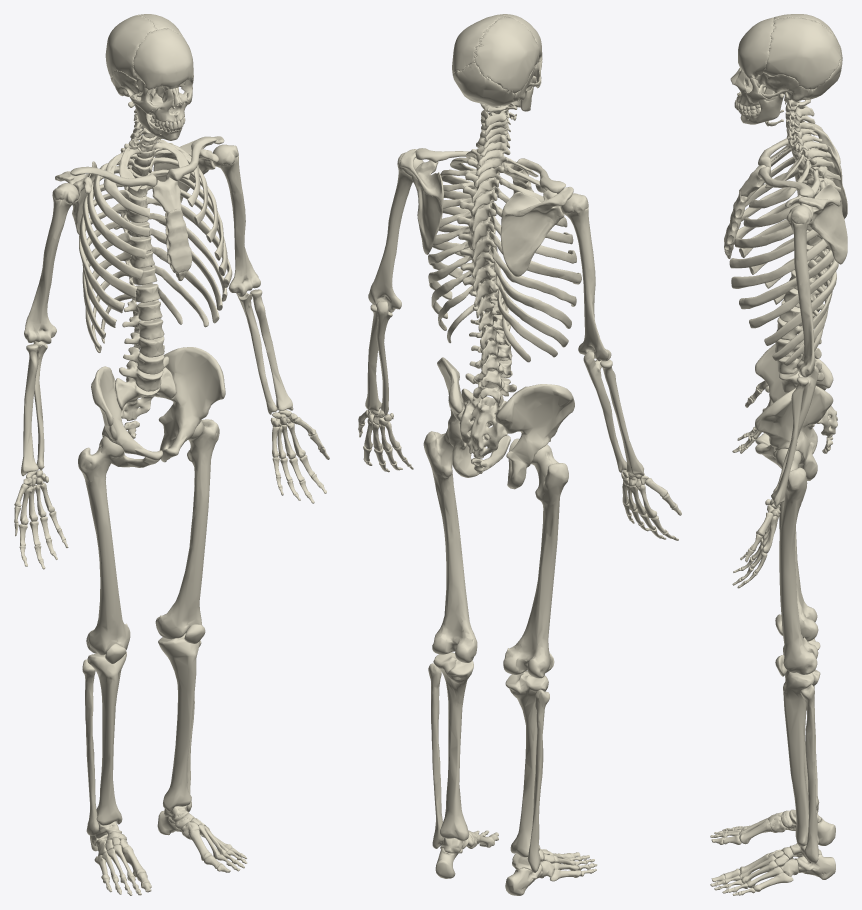
Rendered from skeleton.glb.
3 views of the same model, side by side, from view 1: azimuth 30°, elevation 25°; view 2: azimuth 150°, elevation 25°; view 3: azimuth 270°, elevation 25° (orthographic). The views are drawn at different scales.
Visible parts, largest first — view 1: femur-r, femur-l, hip-l, tibia-l, frontal, tibia-r, humerus-r, humerus-l, hip-r, sternum, parietal-r, sacrum (+18 smaller); view 2: femur-r, femur-l, hip-r, scapula-r, parietal-r, tibia-l, tibia-r, humerus-r, humerus-l, hip-l, scapula-l, sacrum (+15 smaller); view 3: femur-l, parietal-l, tibia-l, hip-l, humerus-l, scapula-l, fibula-l, hip-r, frontal, radius-l, sternum, femur-r (+26 smaller).
Boxes of the visible parts, left/top/right/bottom form: femur-r: left=78, top=436, right=130, bottom=655; femur-l: left=155, top=419, right=219, bottom=639; hip-l: left=158, top=347, right=225, bottom=462; tibia-l: left=158, top=633, right=200, bottom=811; frontal: left=133, top=28, right=193, bottom=91; tibia-r: left=87, top=652, right=126, bottom=825; humerus-r: left=24, top=183, right=78, bottom=344; humerus-l: left=212, top=144, right=260, bottom=296; hip-r: left=91, top=366, right=162, bottom=467; sternum: left=152, top=177, right=192, bottom=280; parietal-r: left=105, top=15, right=157, bottom=79; sacrum: left=115, top=367, right=175, bottom=420; femur-r: left=503, top=444, right=568, bottom=678; femur-l: left=423, top=428, right=477, bottom=662; hip-r: left=495, top=384, right=574, bottom=489; scapula-r: left=500, top=187, right=573, bottom=276; parietal-r: left=474, top=16, right=539, bottom=93; tibia-l: left=433, top=652, right=473, bottom=840; tibia-r: left=505, top=671, right=548, bottom=857; humerus-r: left=561, top=193, right=611, bottom=361; humerus-l: left=368, top=152, right=423, bottom=312; hip-l: left=437, top=357, right=510, bottom=477; scapula-l: left=400, top=149, right=443, bottom=254; sacrum: left=459, top=388, right=507, bottom=458; femur-l: left=775, top=448, right=818, bottom=674; parietal-l: left=763, top=17, right=840, bottom=89; tibia-l: left=783, top=669, right=820, bottom=846; hip-l: left=755, top=386, right=833, bottom=480; humerus-l: left=786, top=205, right=815, bottom=377; scapula-l: left=785, top=183, right=847, bottom=264; fibula-l: left=800, top=684, right=818, bottom=863; hip-r: left=755, top=343, right=833, bottom=453; frontal: left=738, top=17, right=774, bottom=78; radius-l: left=771, top=377, right=808, bottom=506; sternum: left=724, top=165, right=765, bottom=258; femur-r: left=779, top=470, right=818, bottom=641.
Size of the model in its own units: 0.6693 by 1.7 by 0.2501.
